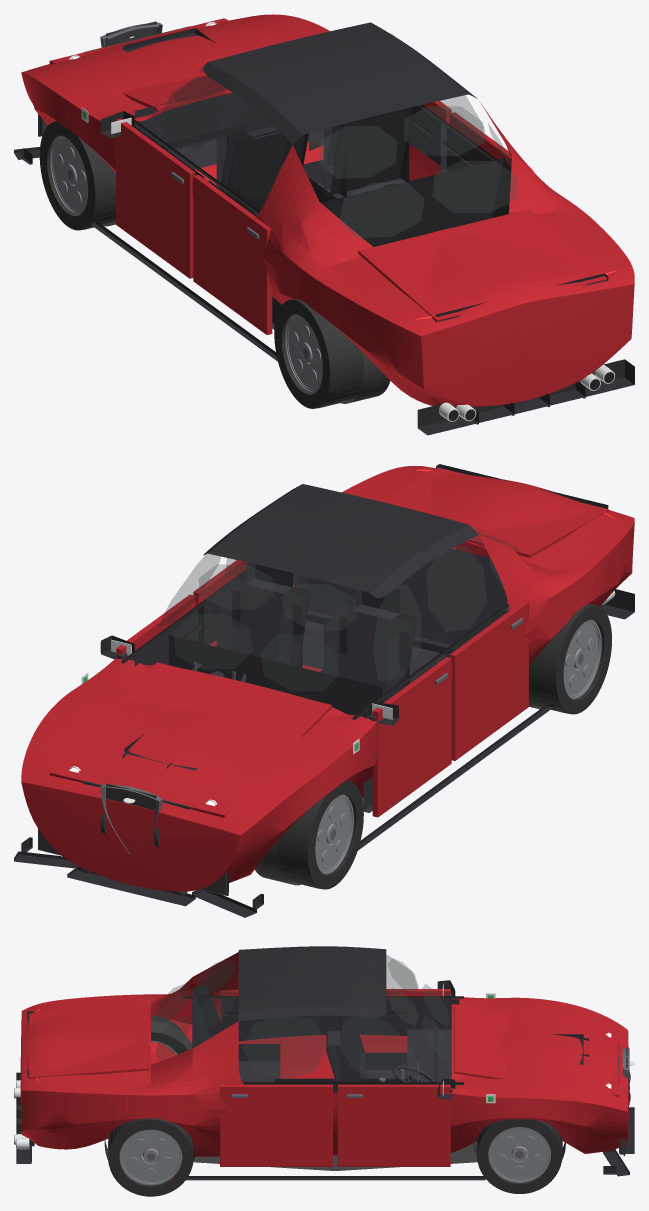
The model's file is Car_Alfa_Romeo_Giulia_Quadrifoglio_2010s.opt.glb.
3 renders of one model, top to bottom at view 1: azimuth 30°, elevation 25°; view 2: azimuth 150°, elevation 25°; view 3: azimuth 270°, elevation 25°, orthographic. The views are drawn at different scales.
Parts seen in each view (by area): view 1: BODY_Watertight_Unibody, INTERIOR_Sparco_Cockpit, GLASS_Greenhouse, DOOR_RR, DOOR_FR, TRUNK_Decklid, AERO_Quadrifoglio_Package, Wheel_RR_Tire, Wheel_FR_Tire, HOOD_Bonnet, DOOR_RL, Wheel_FR_Rim (+5 smaller); view 2: BODY_Watertight_Unibody, INTERIOR_Sparco_Cockpit, GLASS_Greenhouse, DOOR_RR, DOOR_FR, HOOD_Bonnet, AERO_Quadrifoglio_Package, TRUNK_Decklid, Wheel_RR_Tire, Wheel_FR_Tire, Wheel_FR_Rim, Wheel_RR_Rim (+4 smaller); view 3: BODY_Watertight_Unibody, GLASS_Greenhouse, INTERIOR_Sparco_Cockpit, DOOR_FL, DOOR_RL, TRUNK_Decklid, HOOD_Bonnet, AERO_Quadrifoglio_Package, Wheel_RL_Tire, Wheel_RL_Rim, Wheel_FL_Rim, Wheel_FL_Tire (+5 smaller).
Part boxes in pixels (bbox=[...]): BODY_Watertight_Unibody: bbox=[21, 14, 634, 406]; INTERIOR_Sparco_Cockpit: bbox=[134, 88, 511, 246]; GLASS_Greenhouse: bbox=[134, 33, 517, 237]; DOOR_RR: bbox=[193, 175, 281, 334]; DOOR_FR: bbox=[116, 118, 204, 278]; TRUNK_Decklid: bbox=[358, 209, 608, 322]; AERO_Quadrifoglio_Package: bbox=[14, 107, 634, 435]; Wheel_RR_Tire: bbox=[274, 299, 363, 408]; Wheel_FR_Tire: bbox=[39, 121, 115, 230]; HOOD_Bonnet: bbox=[49, 18, 232, 111]; DOOR_RL: bbox=[440, 112, 511, 214]; Wheel_FR_Rim: bbox=[49, 135, 88, 215]; BODY_Watertight_Unibody: bbox=[21, 466, 634, 891]; INTERIOR_Sparco_Cockpit: bbox=[134, 548, 507, 716]; GLASS_Greenhouse: bbox=[121, 527, 517, 719]; DOOR_RR: bbox=[440, 601, 528, 760]; DOOR_FR: bbox=[363, 657, 451, 817]; HOOD_Bonnet: bbox=[49, 662, 331, 817]; AERO_Quadrifoglio_Package: bbox=[14, 589, 634, 917]; TRUNK_Decklid: bbox=[379, 464, 608, 557]; Wheel_RR_Tire: bbox=[529, 603, 611, 714]; Wheel_FR_Tire: bbox=[278, 780, 363, 889]; Wheel_FR_Rim: bbox=[315, 794, 353, 874]; Wheel_RR_Rim: bbox=[563, 619, 601, 699]; BODY_Watertight_Unibody: bbox=[20, 946, 628, 1156]; GLASS_Greenhouse: bbox=[155, 955, 463, 1084]; INTERIOR_Sparco_Cockpit: bbox=[192, 984, 459, 1092]; DOOR_FL: bbox=[337, 1084, 450, 1166]; DOOR_RL: bbox=[220, 1084, 332, 1166]; TRUNK_Decklid: bbox=[27, 1004, 149, 1079]; HOOD_Bonnet: bbox=[454, 1006, 618, 1097]; AERO_Quadrifoglio_Package: bbox=[14, 980, 634, 1180]; Wheel_RL_Tire: bbox=[108, 1118, 193, 1196]; Wheel_RL_Rim: bbox=[119, 1129, 182, 1185]; Wheel_FL_Rim: bbox=[488, 1127, 550, 1182]; Wheel_FL_Tire: bbox=[476, 1119, 562, 1193].
Size of what is drawn, in the model's own units: 1.97 by 1.44 by 4.75.
